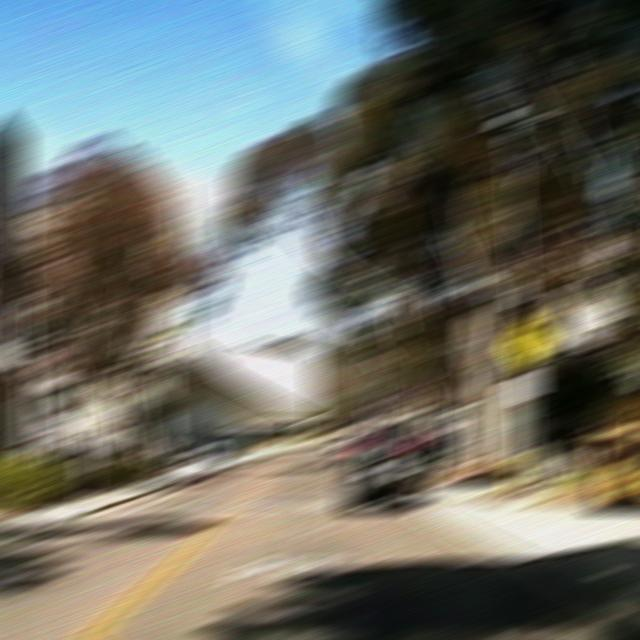pedestrianCrossing: (499, 313, 554, 367)
